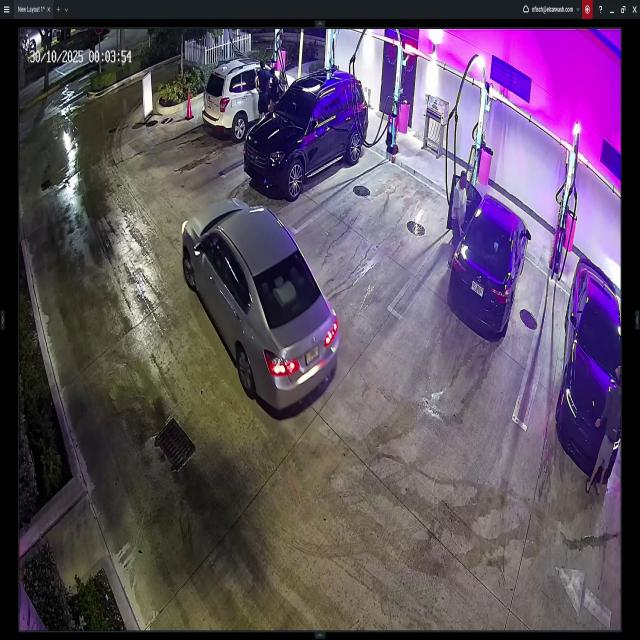Car: (181, 205, 344, 414), (554, 259, 628, 478), (245, 71, 368, 200), (449, 175, 529, 338), (200, 56, 304, 140)
